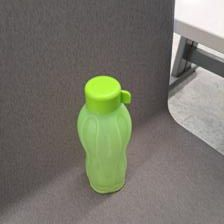bottle: (76, 71, 134, 194)
